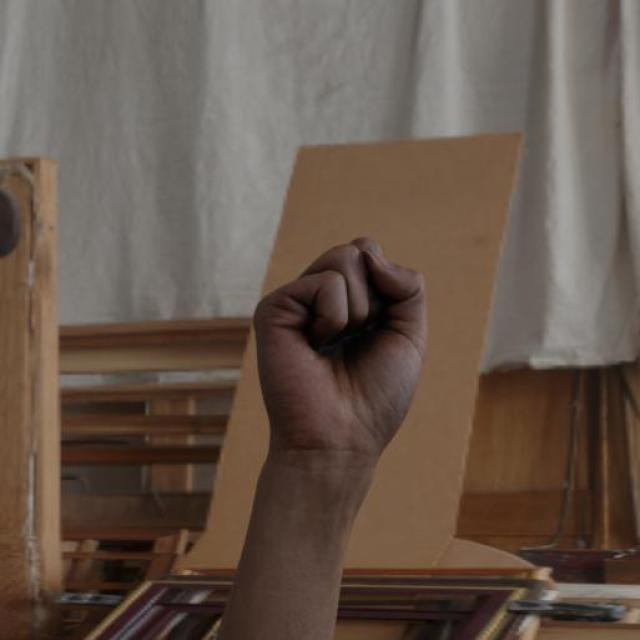S: (250, 233, 430, 467)
